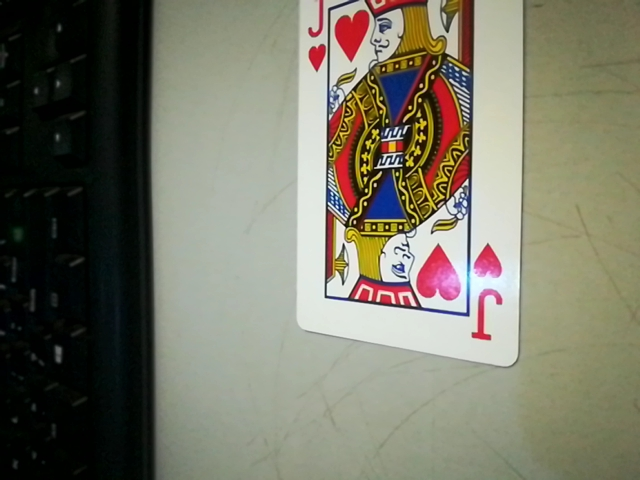hx j: (465, 238, 512, 355)
